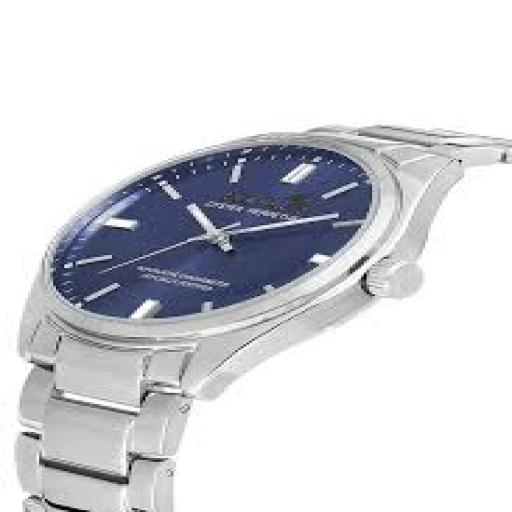KolSaati: (8, 101, 512, 512)
